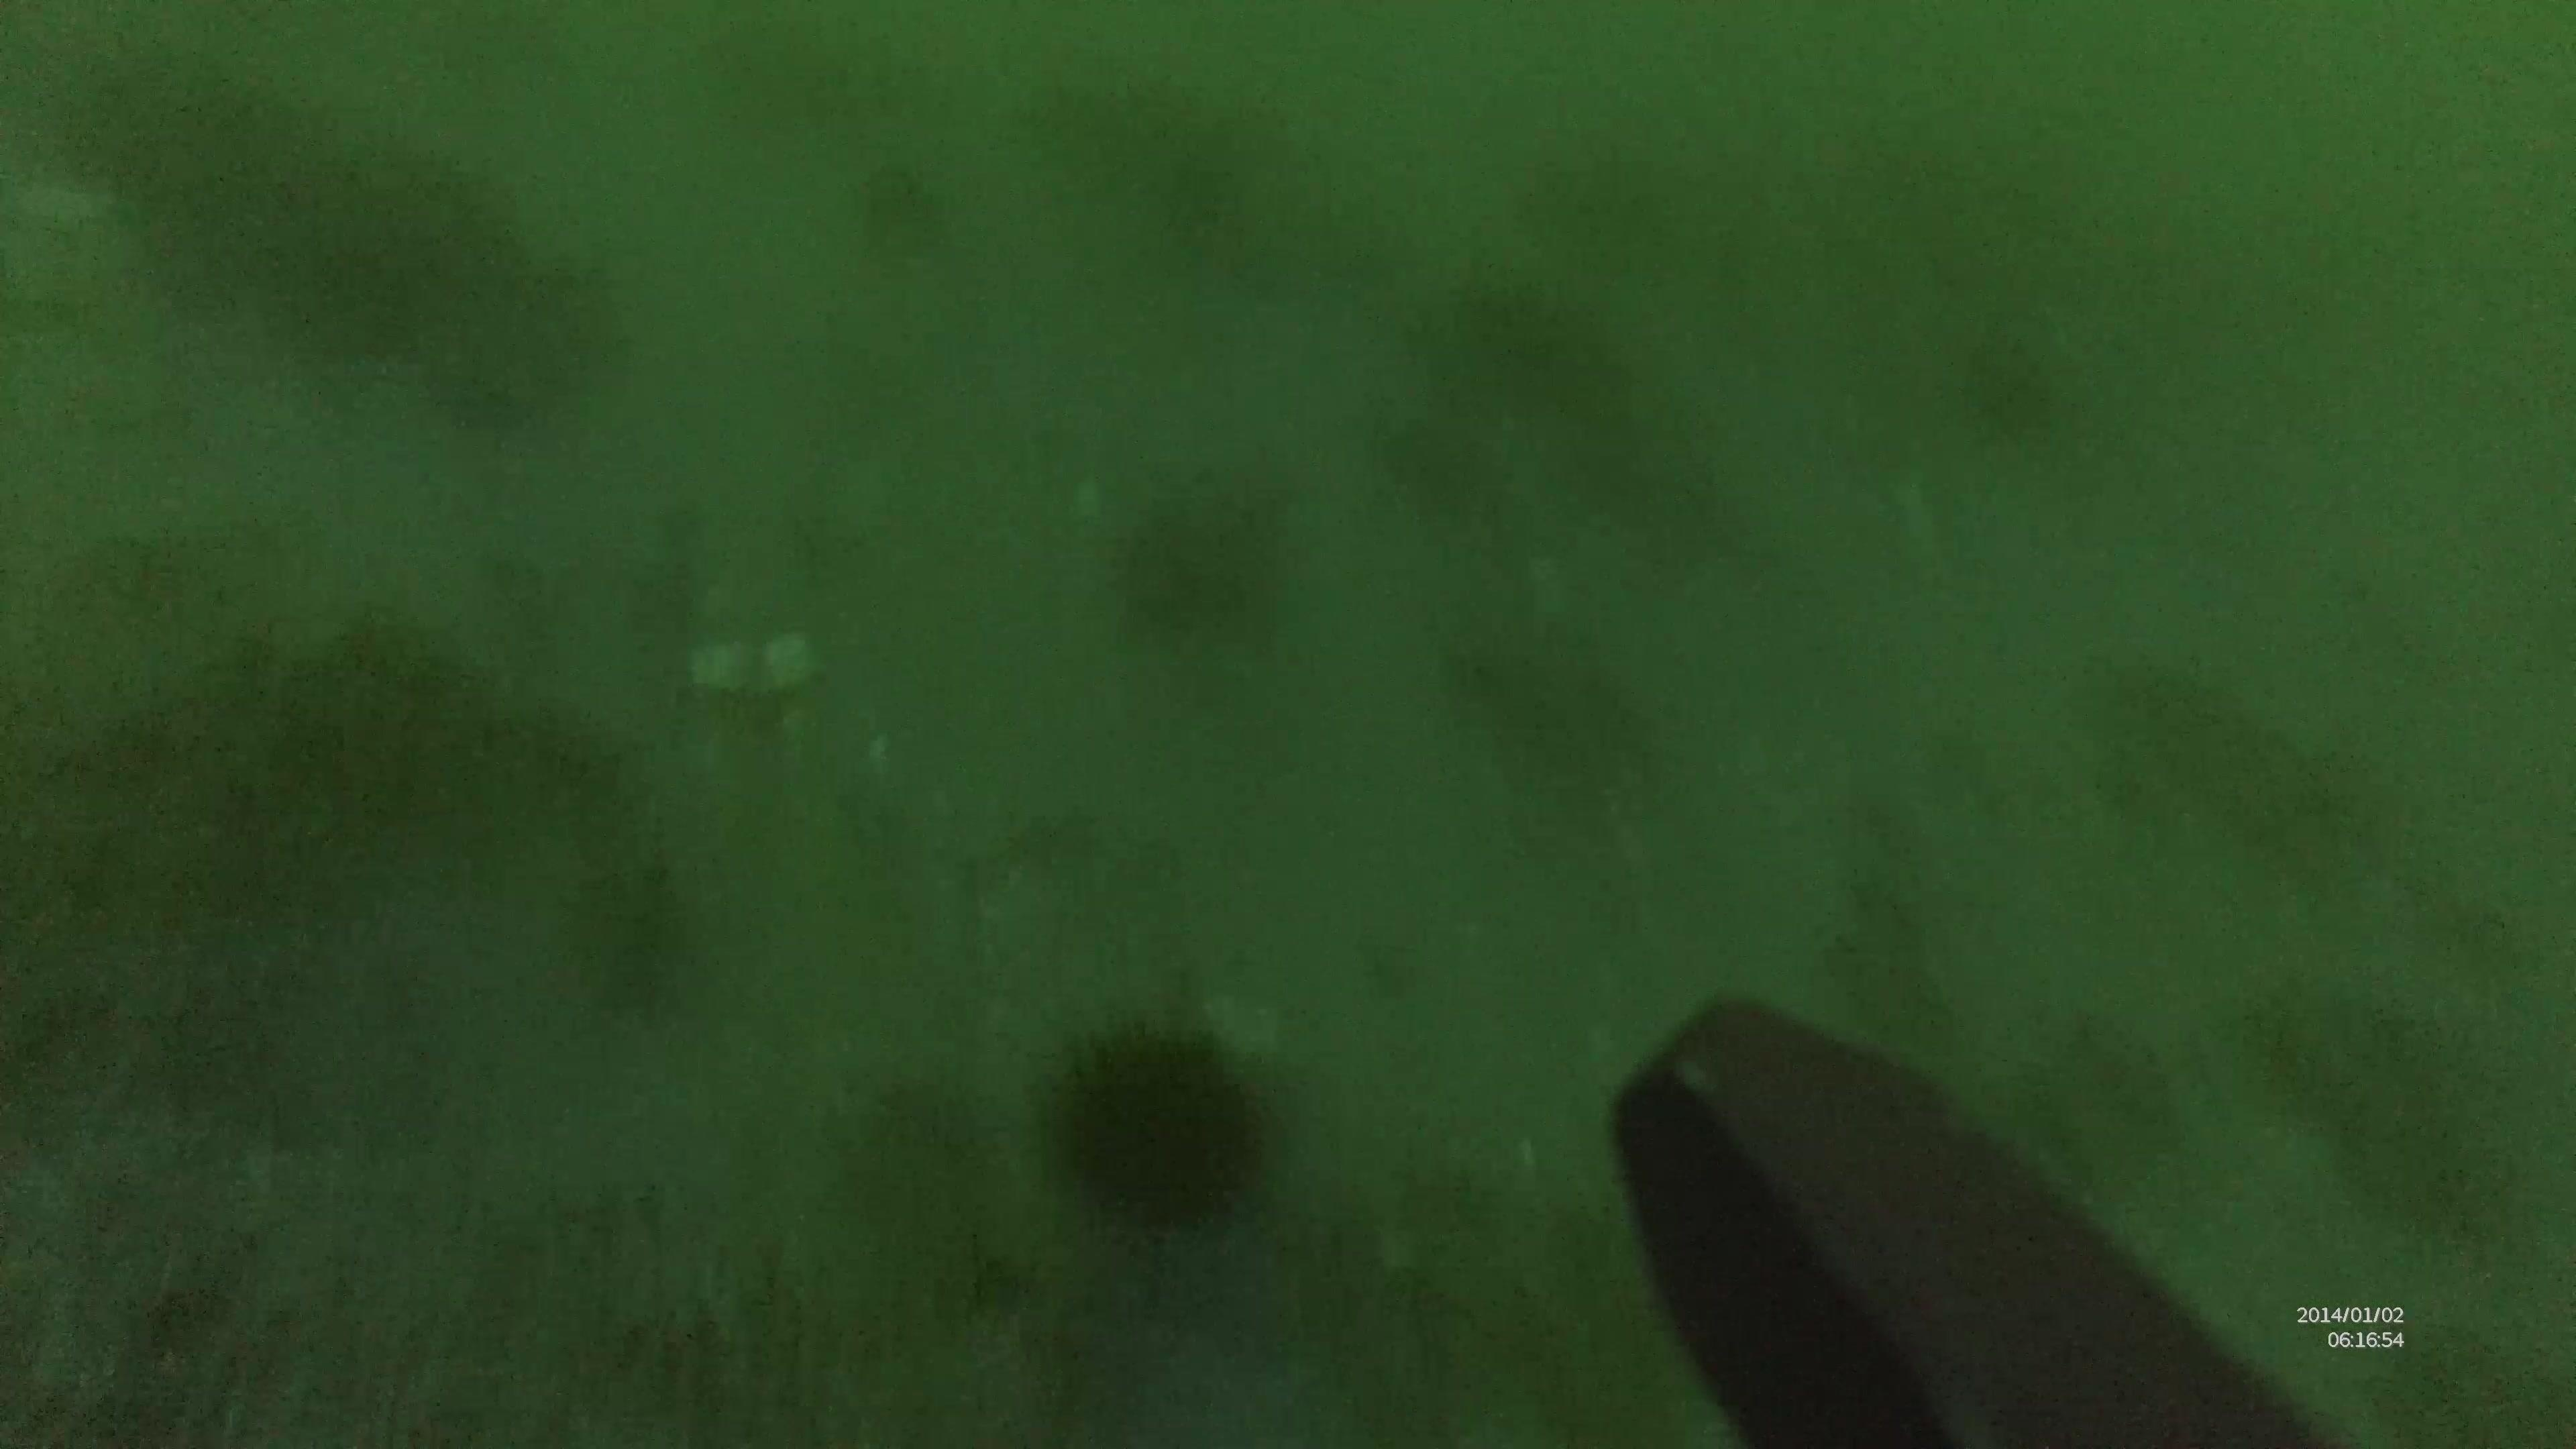echinus: (1040, 1012, 1276, 1237), (1104, 471, 1299, 656)
